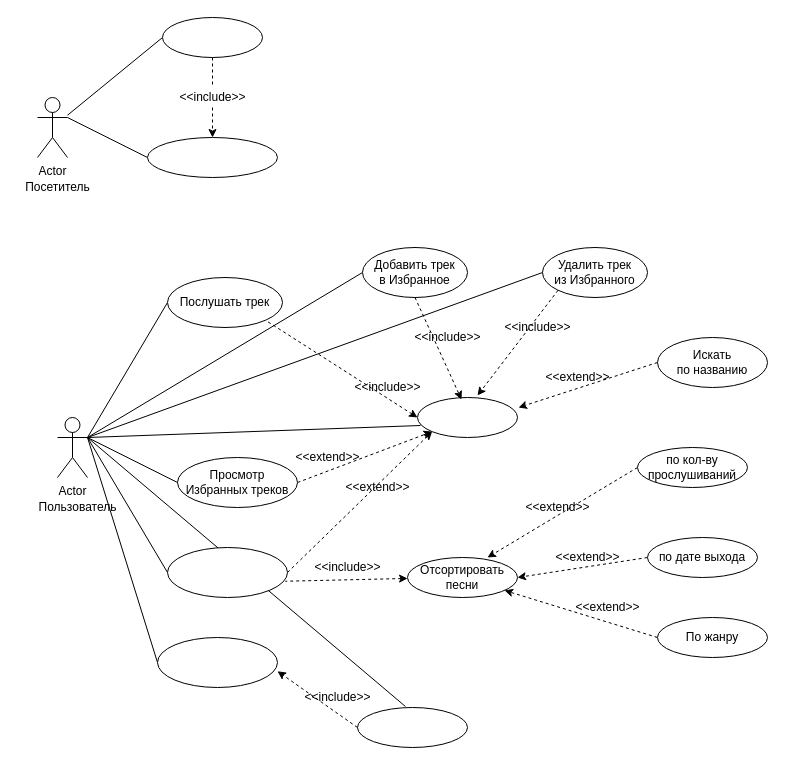
Some shapes in this 785 by 765 pixel diagram are drawn without their labels. The shapes that lost their labels are listed below. From the top down, each one's centre as x and y in pixels, then its label:
At pixel 212 37: "Войти".
At pixel 212 157: "Зарегистрироваться".
At pixel 467 417: "Найти трек".
At pixel 227 572: "Посмотреть все треки".
At pixel 217 662: "Просмотр личных даннных".
At pixel 412 727: "Сменить пароль".
